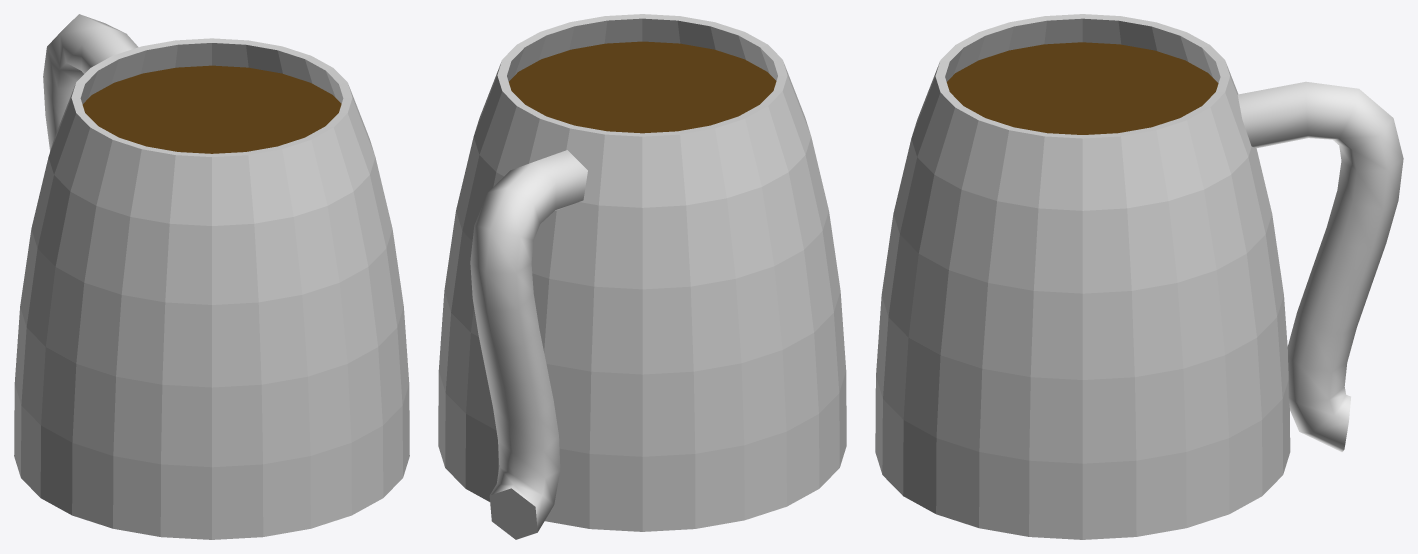
Rendered from pint.fbx.
3 renders of one model, left to right at view 1: azimuth 30°, elevation 25°; view 2: azimuth 150°, elevation 25°; view 3: azimuth 270°, elevation 25°, orthographic. The views are drawn at different scales.
Parts seen in each view (by area): view 1: Cylinder, liquid, BezierCurve; view 2: Cylinder, BezierCurve, liquid; view 3: Cylinder, BezierCurve, liquid.
Boxes of the visible parts, box(x1,y1,x2,y2) form: Cylinder: box(14, 38, 409, 539); liquid: box(82, 65, 341, 153); BezierCurve: box(43, 14, 138, 151); Cylinder: box(438, 14, 846, 531); BezierCurve: box(470, 150, 587, 539); liquid: box(509, 41, 776, 133); Cylinder: box(875, 14, 1290, 539); BezierCurve: box(1237, 81, 1403, 451); liquid: box(946, 42, 1218, 134).
Bounding box in the file's own units: 200 × 200 × 255.
